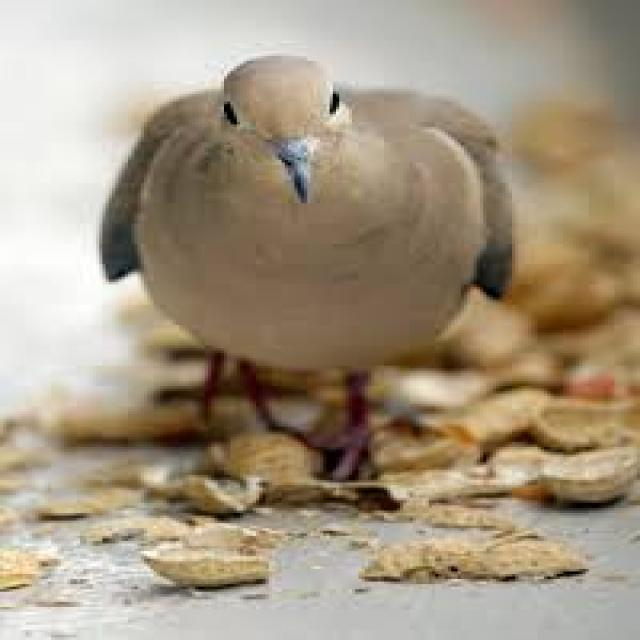dove: (104, 45, 530, 516)
